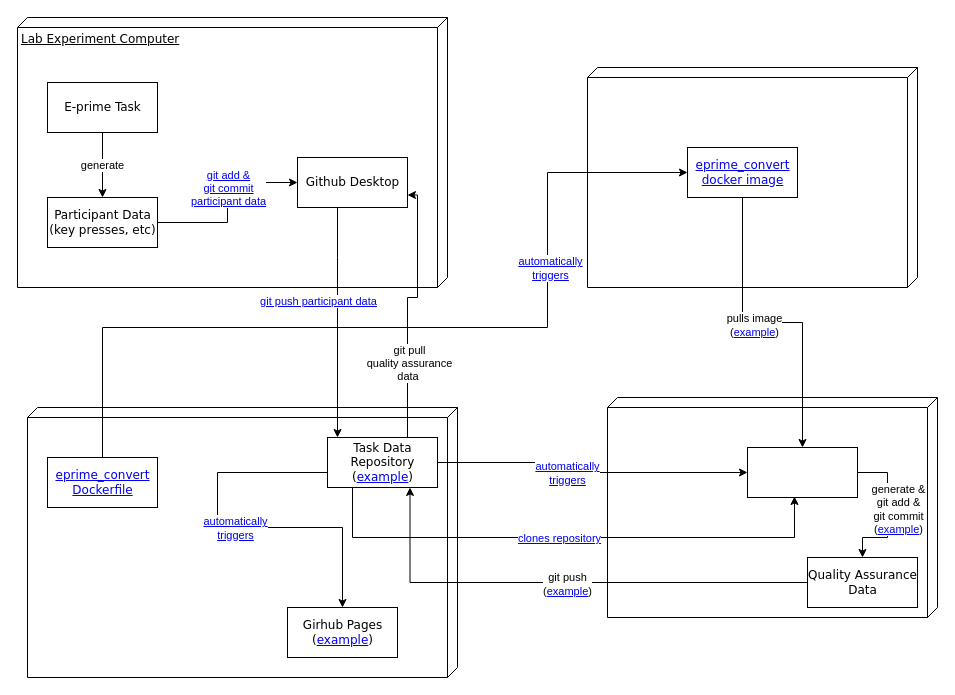
Some shapes in this 955 by 695 pixel diagram are drawn without their labels. Here are the shapes that lost their labels. From the top down, the box of each, then its label:
(586, 66, 918, 288): Dockerhub
(746, 446, 858, 498): Workflow
(606, 396, 938, 618): Continuous Integration (circleci)
(26, 406, 458, 678): Github
